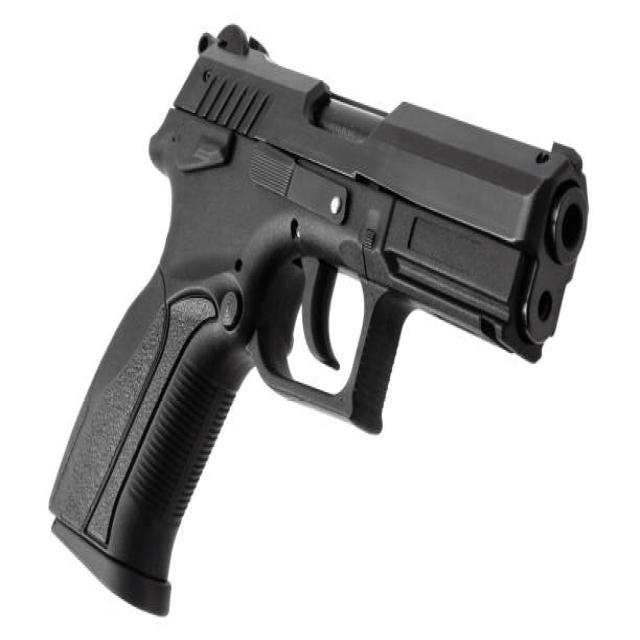pistol: (42, 10, 595, 630)
